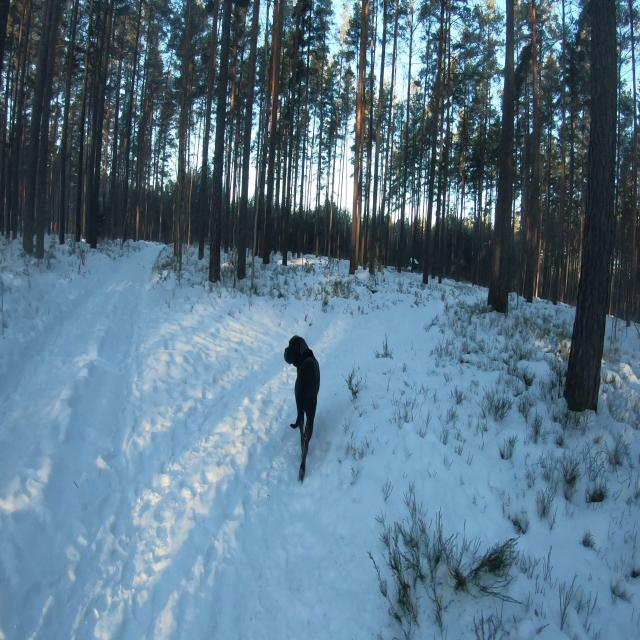bush: (369, 485, 518, 638)
trees: (564, 0, 616, 411), (23, 0, 62, 253), (488, 0, 515, 313), (36, 0, 62, 258), (87, 0, 114, 248), (423, 0, 446, 283), (209, 0, 232, 282), (238, 0, 259, 279), (263, 0, 284, 264), (199, 0, 219, 259), (350, 0, 368, 274), (369, 0, 387, 274), (59, 0, 79, 244), (525, 0, 541, 302), (122, 0, 142, 239), (12, 0, 32, 239), (282, 5, 300, 265), (174, 0, 191, 271), (397, 0, 414, 271), (551, 0, 566, 303), (75, 0, 93, 242), (254, 29, 273, 257), (627, 0, 637, 322), (296, 46, 309, 257), (110, 54, 122, 237), (414, 89, 426, 257), (434, 101, 444, 282), (315, 79, 324, 257), (0, 84, 8, 235), (440, 29, 448, 49), (0, 0, 10, 11)
